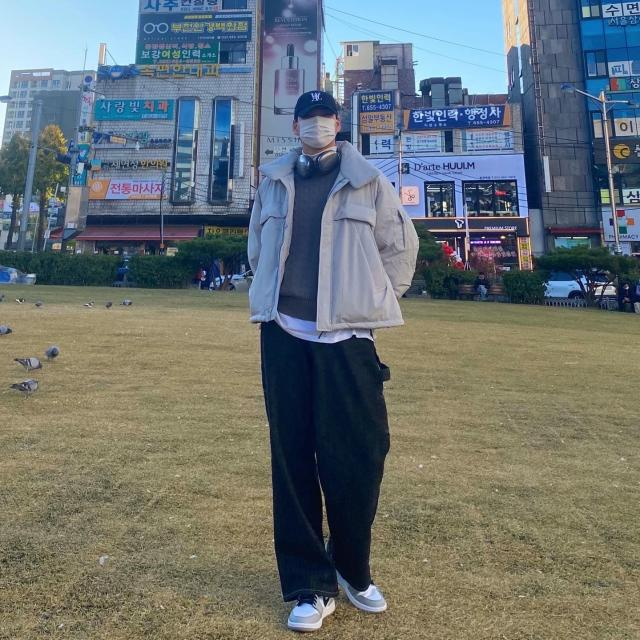cottonpants: (260, 312, 390, 601)
padding: (250, 135, 419, 330)
